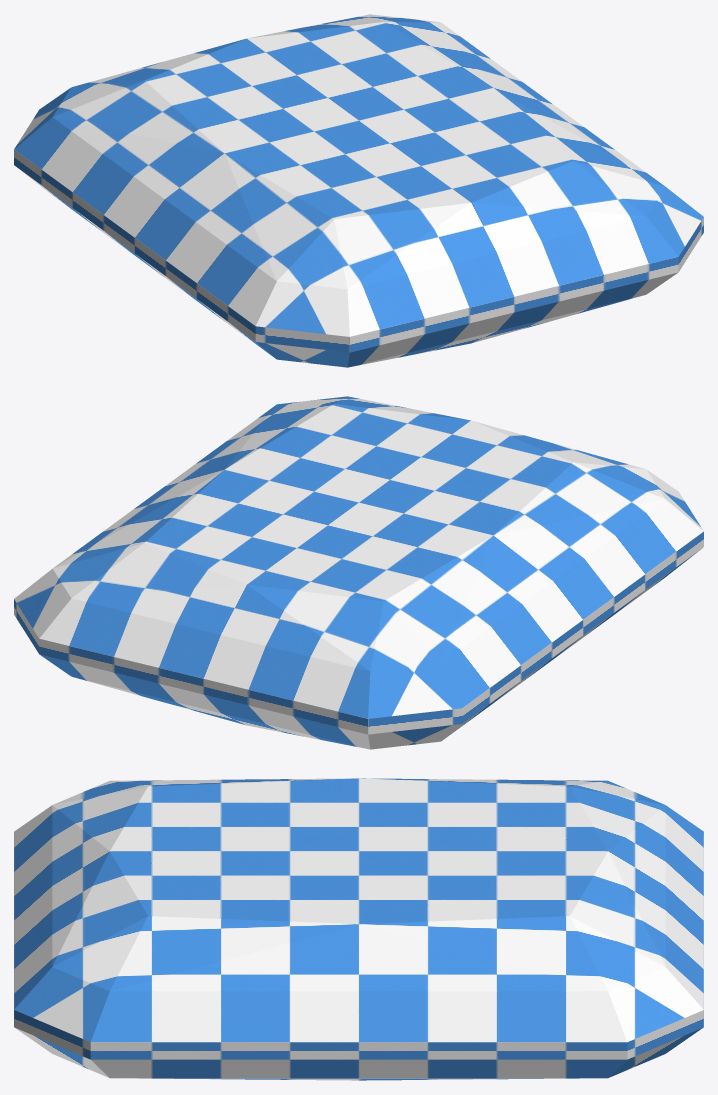
The model's file is RadiantCutDouble.FBX.
3 renders of one model, top to bottom at view 1: azimuth 30°, elevation 25°; view 2: azimuth 150°, elevation 25°; view 3: azimuth 270°, elevation 25°, orthographic. The views are drawn at different scales.
Parts seen in each view (by area): view 1: RadiantCutDouble; view 2: RadiantCutDouble; view 3: RadiantCutDouble.
Boxes of the visible parts, bbox=[...] form: RadiantCutDouble: bbox=[14, 14, 703, 367]; RadiantCutDouble: bbox=[14, 396, 703, 749]; RadiantCutDouble: bbox=[14, 778, 703, 1080].
Size of the model in its own units: 0.9525 by 0.2858 by 1.14.
